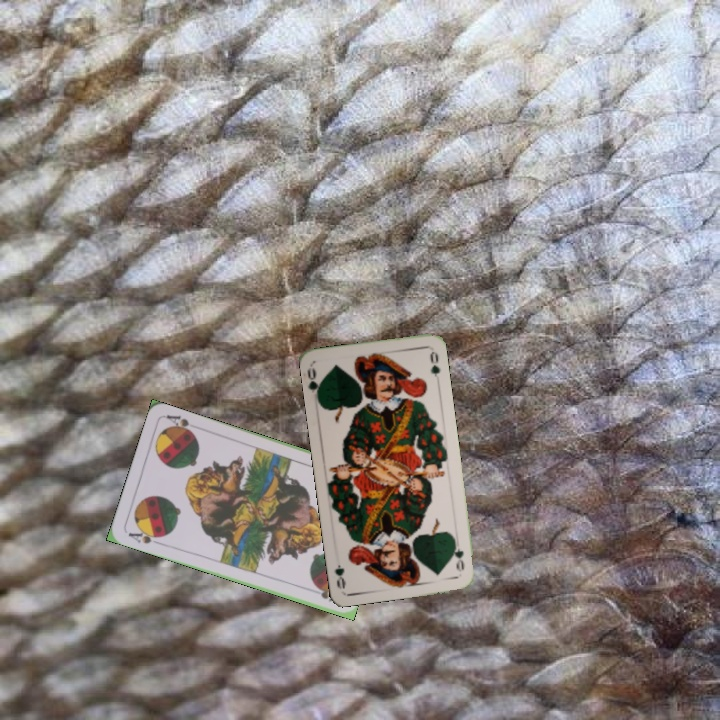GO: (303, 363, 324, 404), (448, 535, 466, 574)
SA: (124, 525, 165, 547)
